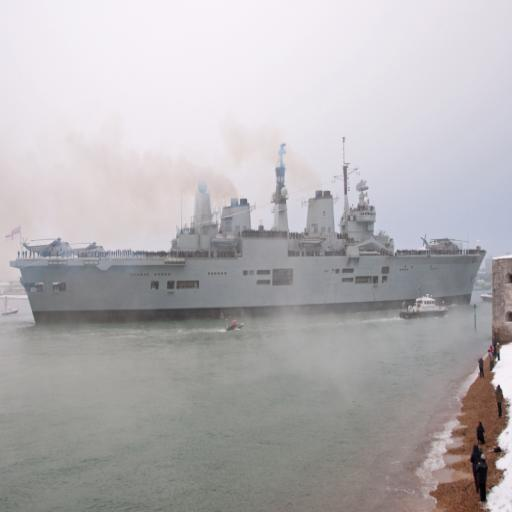Portanaves: (8, 120, 491, 327)
